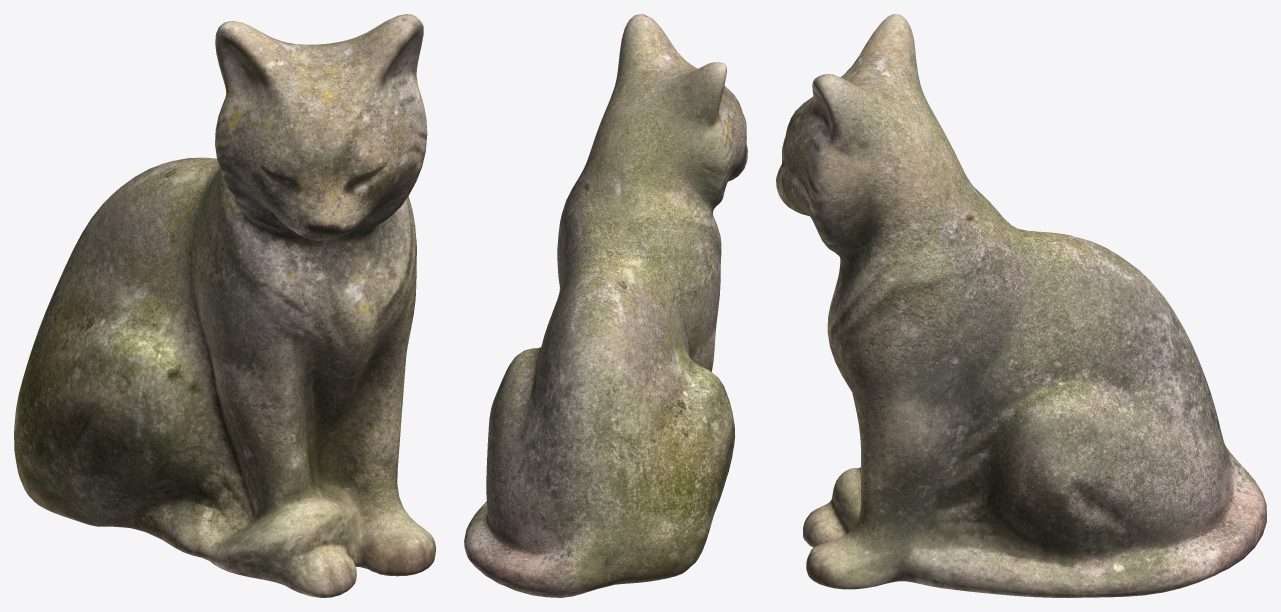
File: cat.glb
3 renders of one model, left to right at view 1: azimuth 30°, elevation 25°; view 2: azimuth 150°, elevation 25°; view 3: azimuth 270°, elevation 25°, orthographic. The views are drawn at different scales.
Parts seen in each view (by area): view 1: concrete_cat_statue; view 2: concrete_cat_statue; view 3: concrete_cat_statue.
Boxes of the visible parts, <box> form: concrete_cat_statue: <box>14,14,435,597</box>; concrete_cat_statue: <box>464,14,747,597</box>; concrete_cat_statue: <box>776,14,1266,597</box>.
Size of the model in its own units: 0.153 by 0.283 by 0.25.
Materials: 1 (1 with a texture image).
